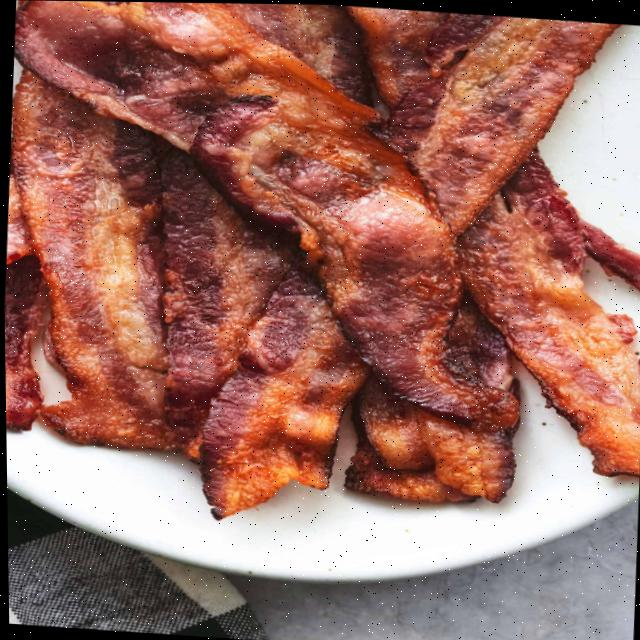Bacon: (18, 0, 516, 428), (12, 71, 177, 449), (457, 155, 640, 474), (408, 15, 619, 233), (197, 258, 368, 518), (161, 148, 292, 441), (356, 374, 433, 469)
